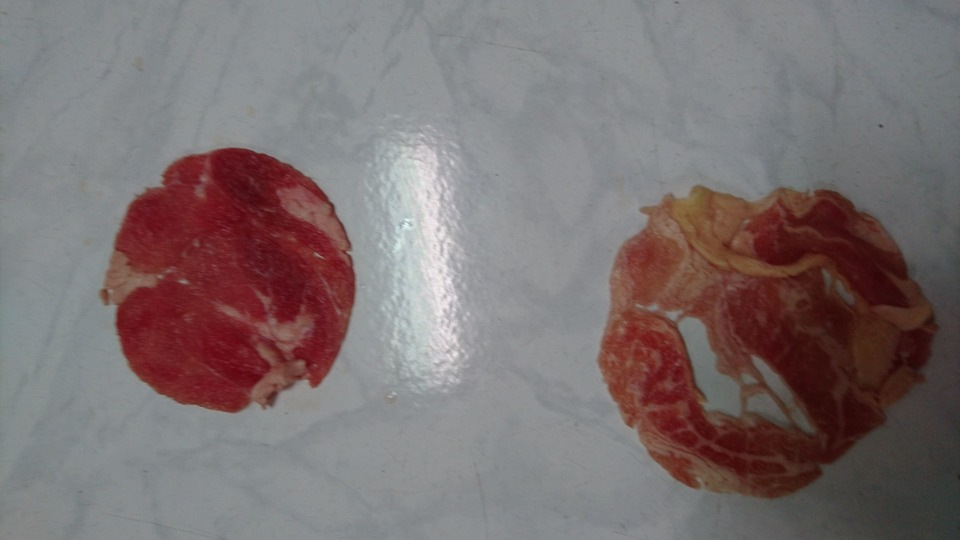restructured meat: (597, 151, 932, 509), (99, 133, 367, 437)
